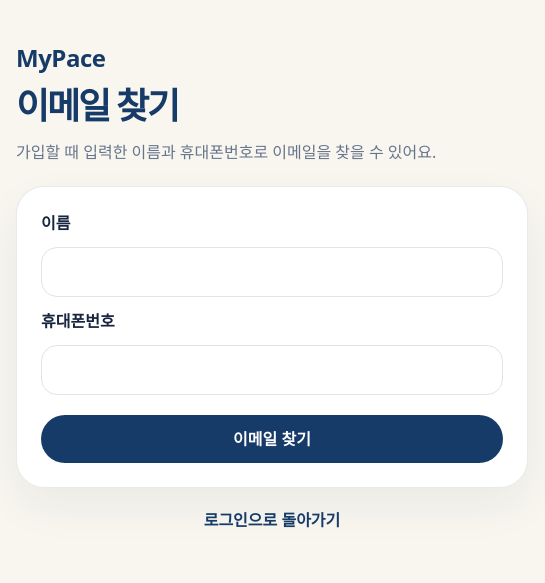
Test case: FindEmailPage › finds emails with name and phone number
The image size is (545, 583).
Step 1. Type "유영찬" into the field labelled "이름" → (272, 272), box left=41, top=247, right=503, bottom=297
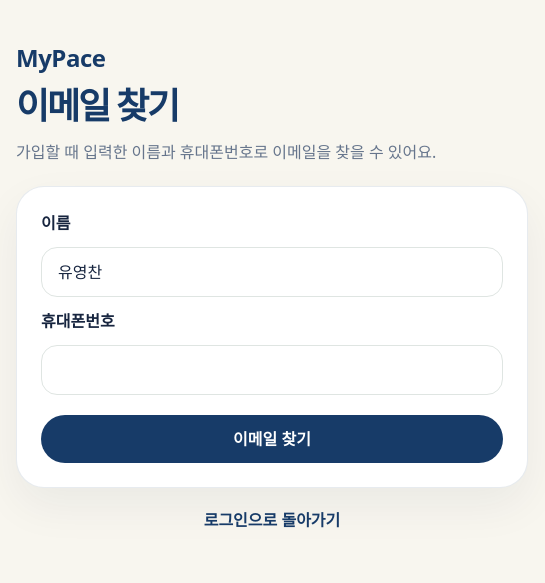
Step 2. Type "01012345678" into the field labelled "휴대폰번호" → (272, 370), box left=41, top=345, right=503, bottom=395
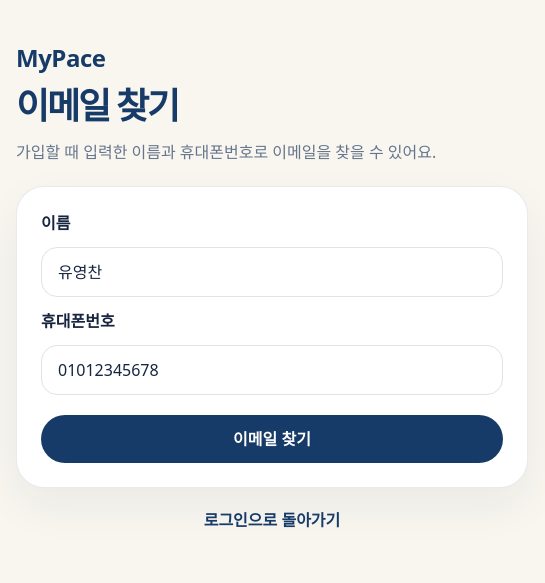
Step 3. Click the button "이메일 찾기" → (272, 439), box left=41, top=415, right=503, bottom=463
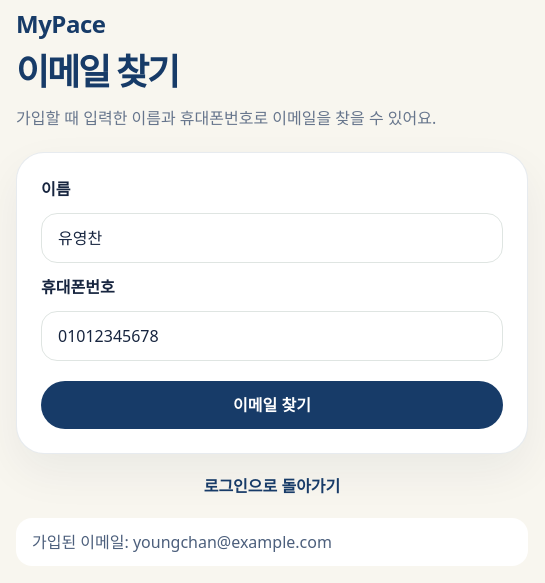
Now the message shows "youngchan@example.com", box left=32, top=531, right=332, bottom=553
